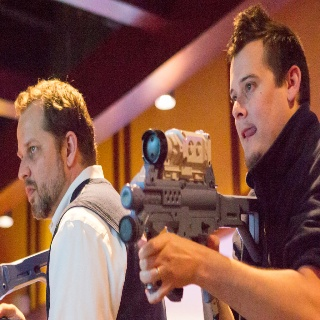rifle: (119, 126, 268, 304)
